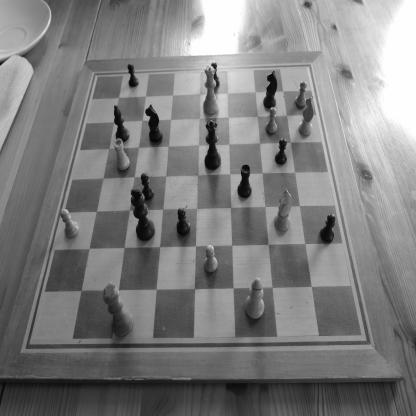black-bishop: (114, 104, 130, 142)
black-king: (130, 188, 156, 242)
black-knight: (145, 104, 163, 144), (263, 70, 278, 109)
black-pawn: (320, 212, 336, 243), (176, 207, 191, 236), (274, 137, 288, 166), (140, 172, 154, 200), (127, 63, 139, 88), (211, 61, 220, 87)
black-queen: (204, 119, 222, 171)
black-rook: (237, 164, 252, 198)
white-bishop: (244, 277, 265, 320)
white-king: (102, 282, 134, 338)
white-knight: (274, 188, 292, 232), (298, 96, 314, 136)
white-pawn: (60, 209, 80, 238), (204, 244, 218, 274), (265, 107, 278, 134), (295, 80, 307, 108)
white-queen: (203, 65, 219, 116)
white-rook: (113, 138, 130, 171)
